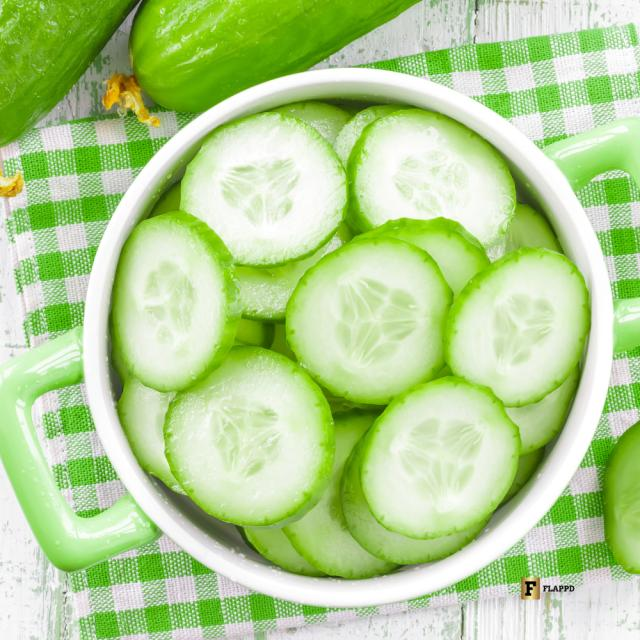Pickle: (129, 0, 419, 112), (164, 346, 335, 528), (286, 236, 454, 404), (180, 111, 348, 268), (361, 376, 521, 539), (112, 211, 242, 391), (348, 109, 516, 248), (445, 248, 590, 407), (0, 0, 139, 146), (351, 218, 490, 298)
